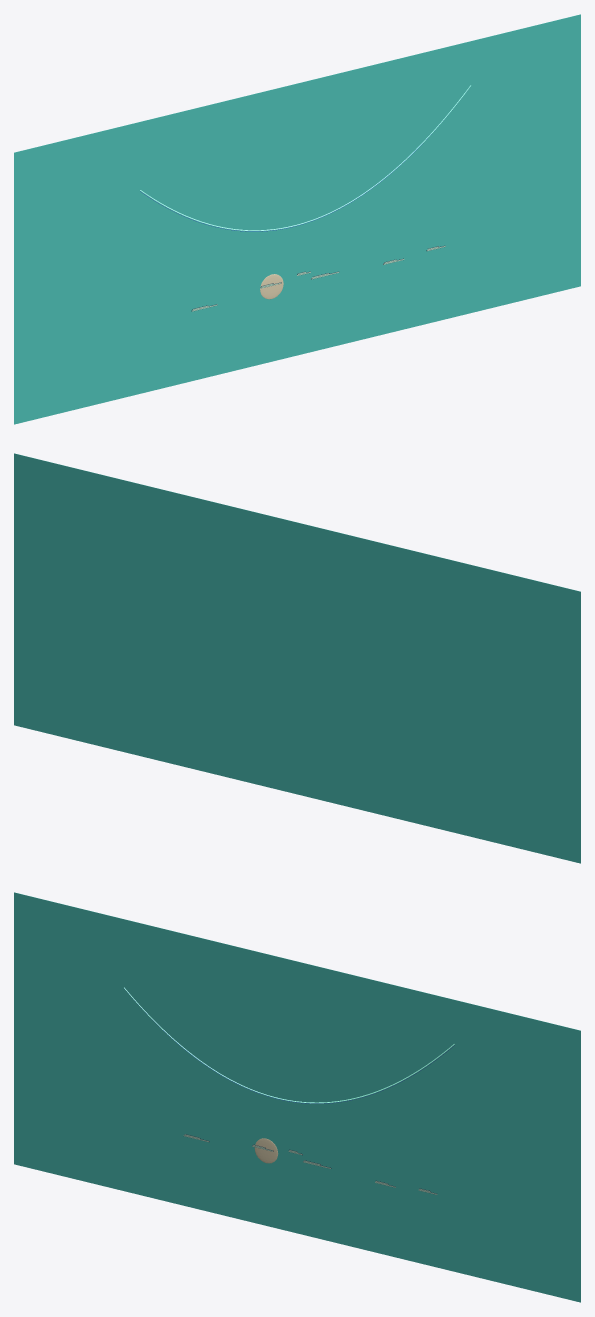
Rendered from sky_backdrop.glb.
3 views of the same model, one above another, from view 1: azimuth 30°, elevation 25°; view 2: azimuth 150°, elevation 25°; view 3: azimuth 330°, elevation 25° (orthographic).
Visible parts, largest first — view 1: sky_backdrop_Static; view 2: sky_backdrop_Static; view 3: sky_backdrop_Static.
Part boxes in pixels (x1,y1,x2,y2): sky_backdrop_Static: (14,14,580,424); sky_backdrop_Static: (14,453,580,863); sky_backdrop_Static: (14,892,580,1302).
Bounding box in the file's own units: 240 × 110 × 6.21.
